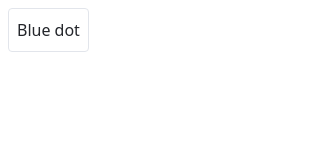
Test: CloudMarkup visual foundation › portals a directional trigger tooltip beyond a scrolling owner
The width and height of the screenshot is (320, 160).
Focus the button with aria-label "Open Invokes output connections" at coordinates (48, 30), box [8,8,89,52]
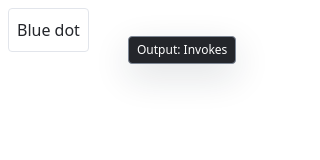
Press Escape in the button with aria-label "Open Invokes output connections", box [8,8,89,52]
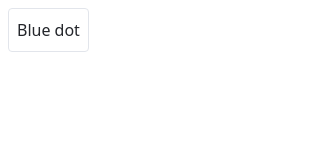
Check: the tooltip "Output: Invokes" is gone
